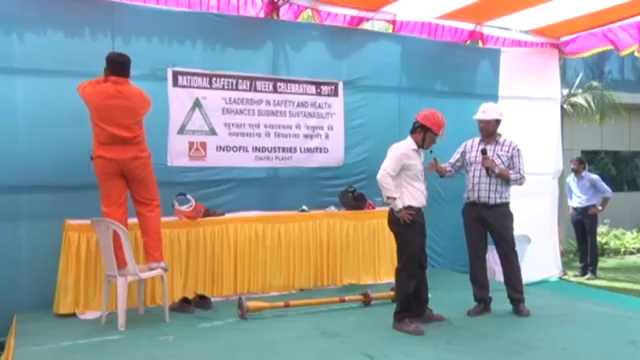helmet: (413, 107, 447, 136), (469, 101, 505, 123)
helmet_off: (102, 50, 131, 81), (570, 155, 587, 176)
helmet_on: (467, 101, 507, 144), (409, 106, 446, 152)
person: (426, 100, 534, 321), (76, 51, 170, 274), (375, 107, 447, 340), (563, 156, 614, 282)
